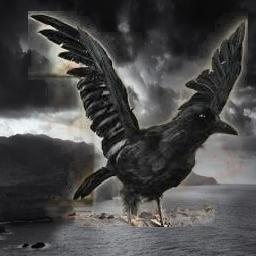Crow: (28, 11, 248, 227)
